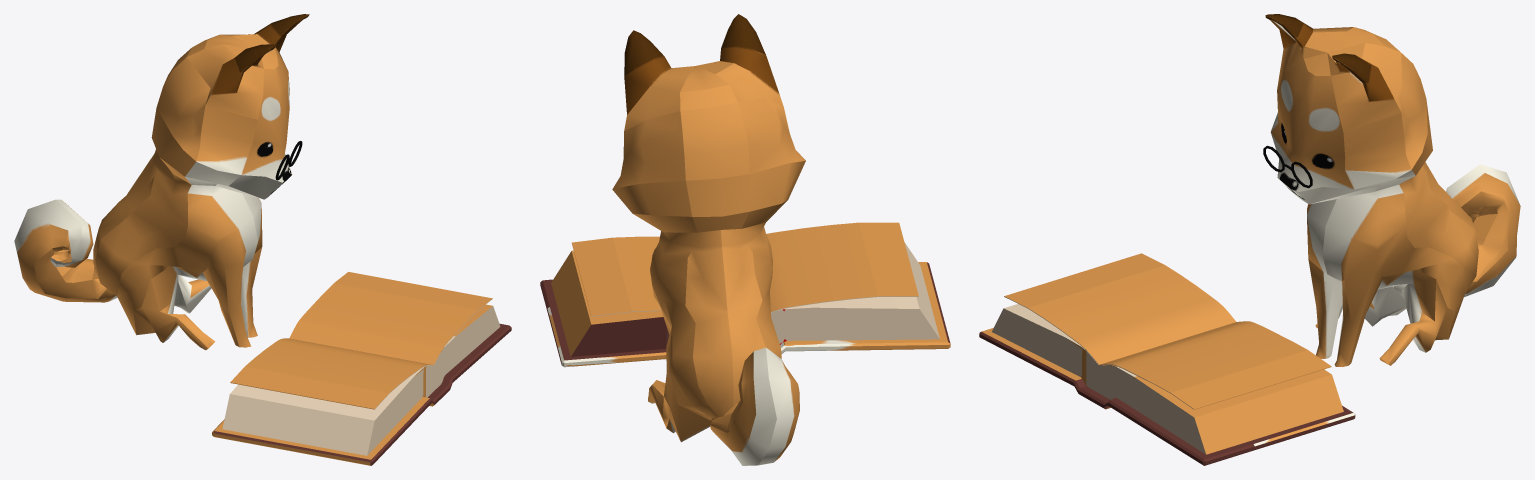
The model's file is book_frame7.obj.
3 views of the same model, side by side, from view 1: azimuth 30°, elevation 25°; view 2: azimuth 150°, elevation 25°; view 3: azimuth 270°, elevation 25° (orthographic). The views are drawn at different scales.
Visible parts, largest first — view 1: StidyGlasses_Computer_Sitting:Sitting:newRigging:BodzL1, polySurface1; view 2: StidyGlasses_Computer_Sitting:Sitting:newRigging:BodzL1, polySurface1; view 3: StidyGlasses_Computer_Sitting:Sitting:newRigging:BodzL1, polySurface1.
Boxes of the visible parts, x1,y1,x2,y2 form: StidyGlasses_Computer_Sitting:Sitting:newRigging:BodzL1: (14, 14, 309, 350); polySurface1: (212, 272, 511, 465); StidyGlasses_Computer_Sitting:Sitting:newRigging:BodzL1: (612, 14, 805, 465); polySurface1: (540, 222, 950, 367); StidyGlasses_Computer_Sitting:Sitting:newRigging:BodzL1: (1265, 14, 1520, 366); polySurface1: (979, 253, 1355, 465).
Size of the model in its own units: 9.18 by 7.74 by 11.01.
Materials: 4 (4 with a texture image).
